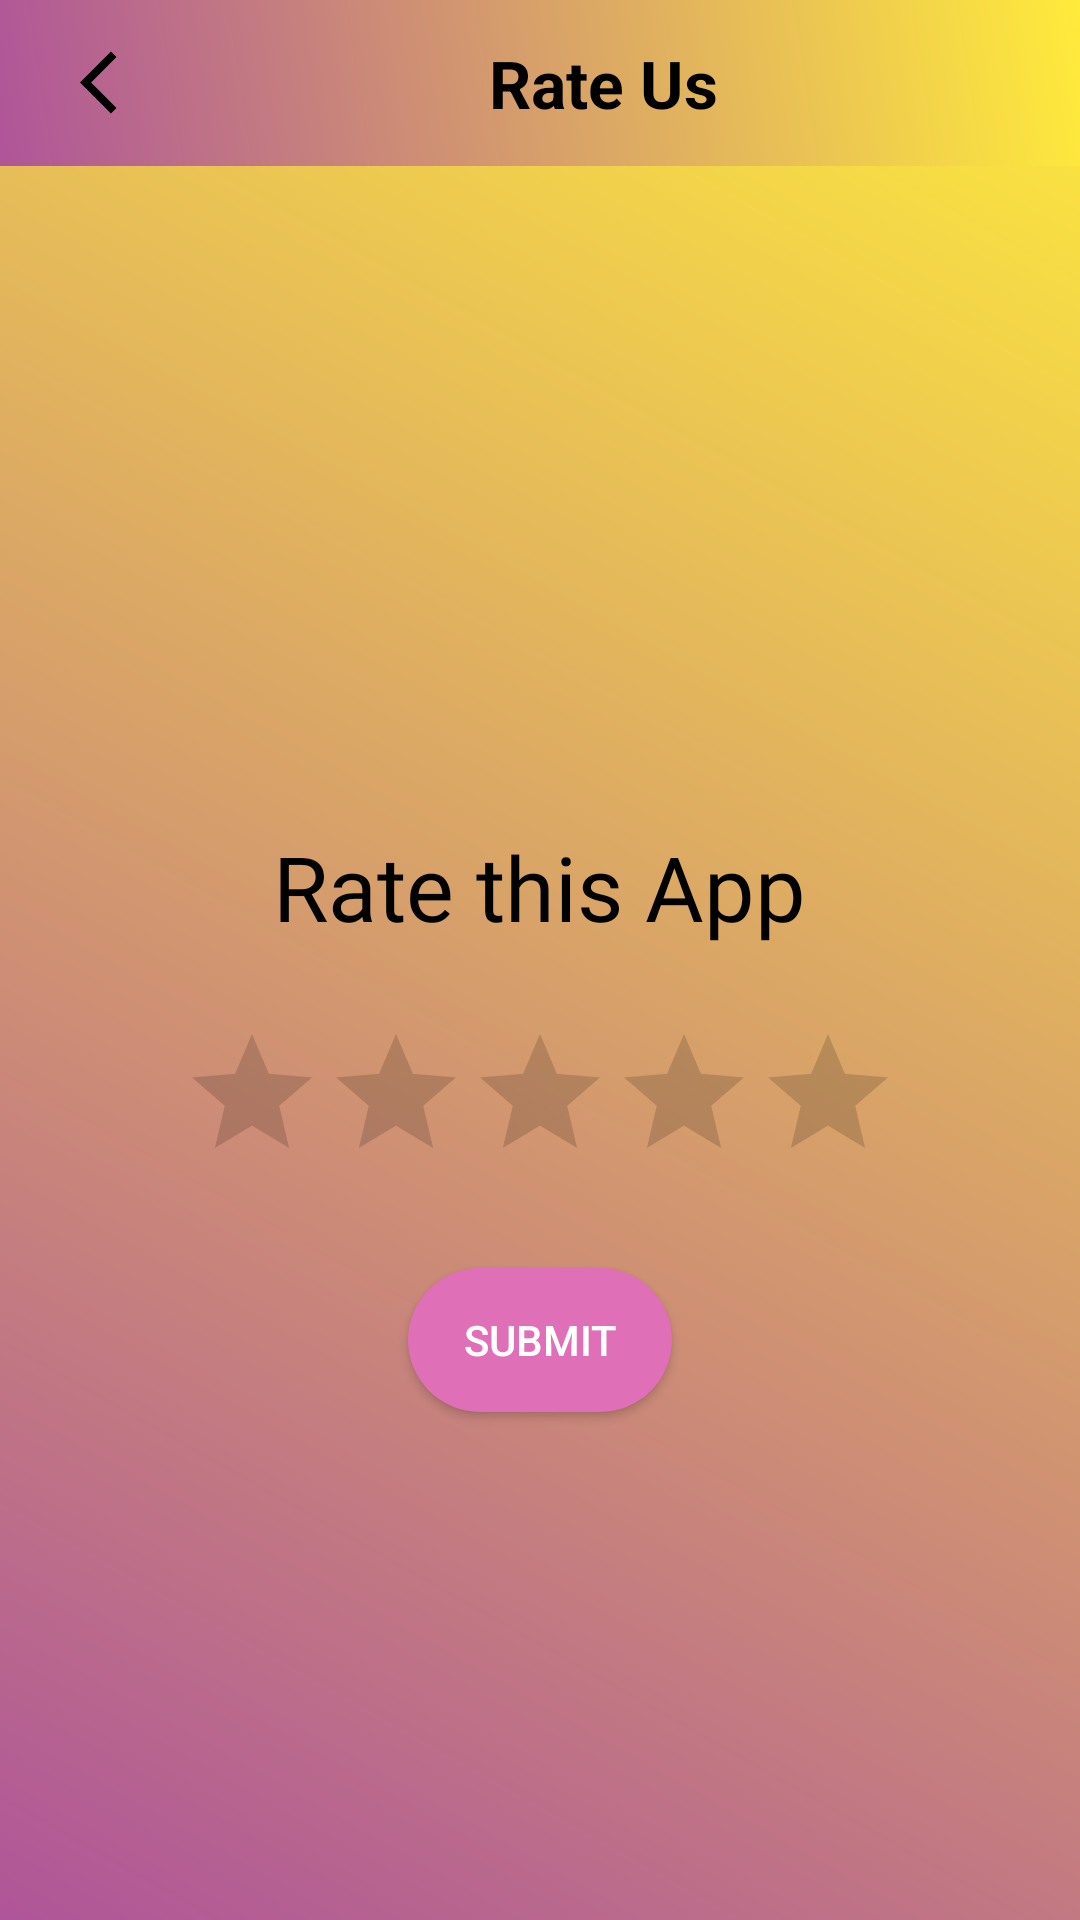

Icon click points for this 1080w x 1920h phone screenshot, format (x=x, y=y):
Back Arrow: (x=98, y=82)
